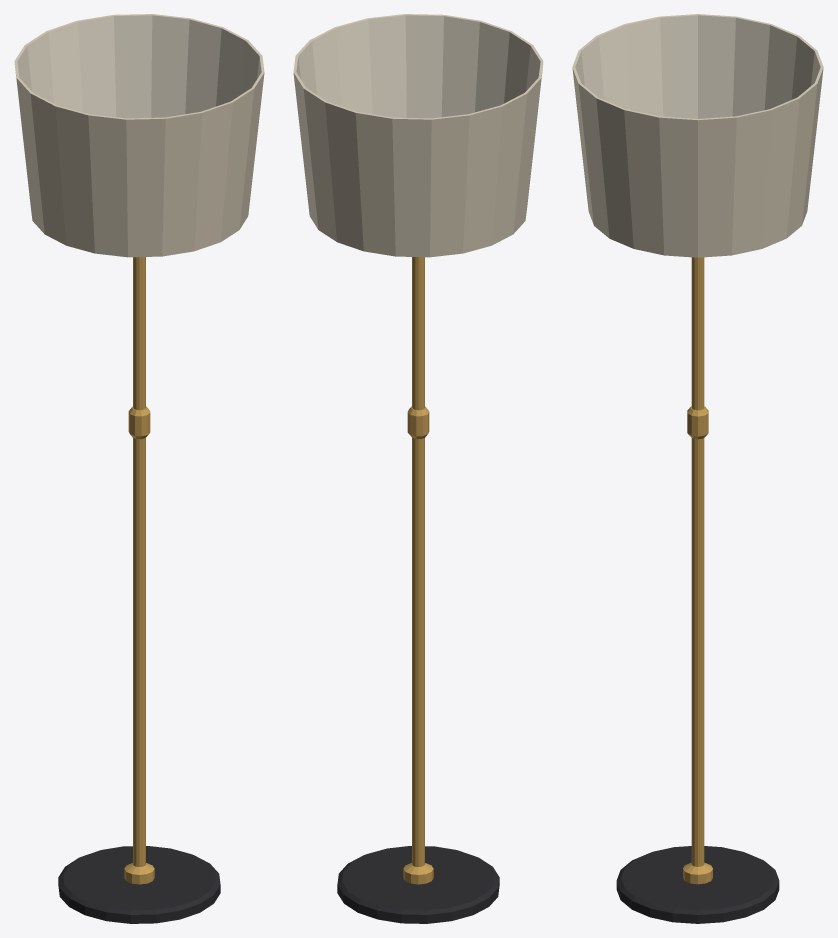
The model's file is FN_Lamp_Floor.obj.
3 views of the same model, side by side, from view 1: azimuth 30°, elevation 25°; view 2: azimuth 150°, elevation 25°; view 3: azimuth 270°, elevation 25° (orthographic).
Visible parts, largest first — view 1: FN_Lamp_Floor; view 2: FN_Lamp_Floor; view 3: FN_Lamp_Floor.
Part boxes in pixels (left/top/right/bottom): FN_Lamp_Floor: left=14, top=14, right=264, bottom=923; FN_Lamp_Floor: left=293, top=14, right=543, bottom=923; FN_Lamp_Floor: left=572, top=14, right=823, bottom=923.
Bounding box in the file's own units: 0.432 × 1.56 × 0.432.
Materials: 2 (1 with a texture image).
